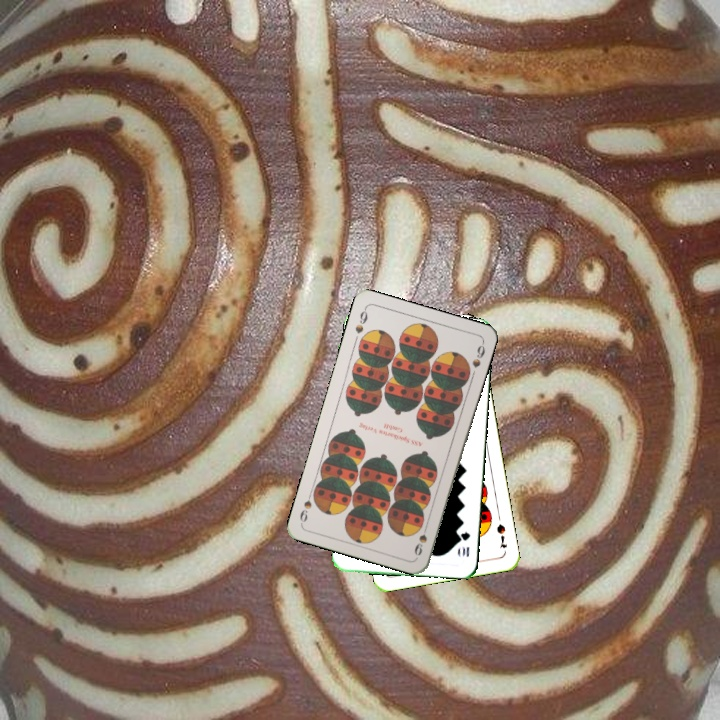G10: (457, 528, 472, 559)
S7: (492, 520, 509, 551)
S9: (410, 519, 431, 558), (351, 304, 370, 336)
